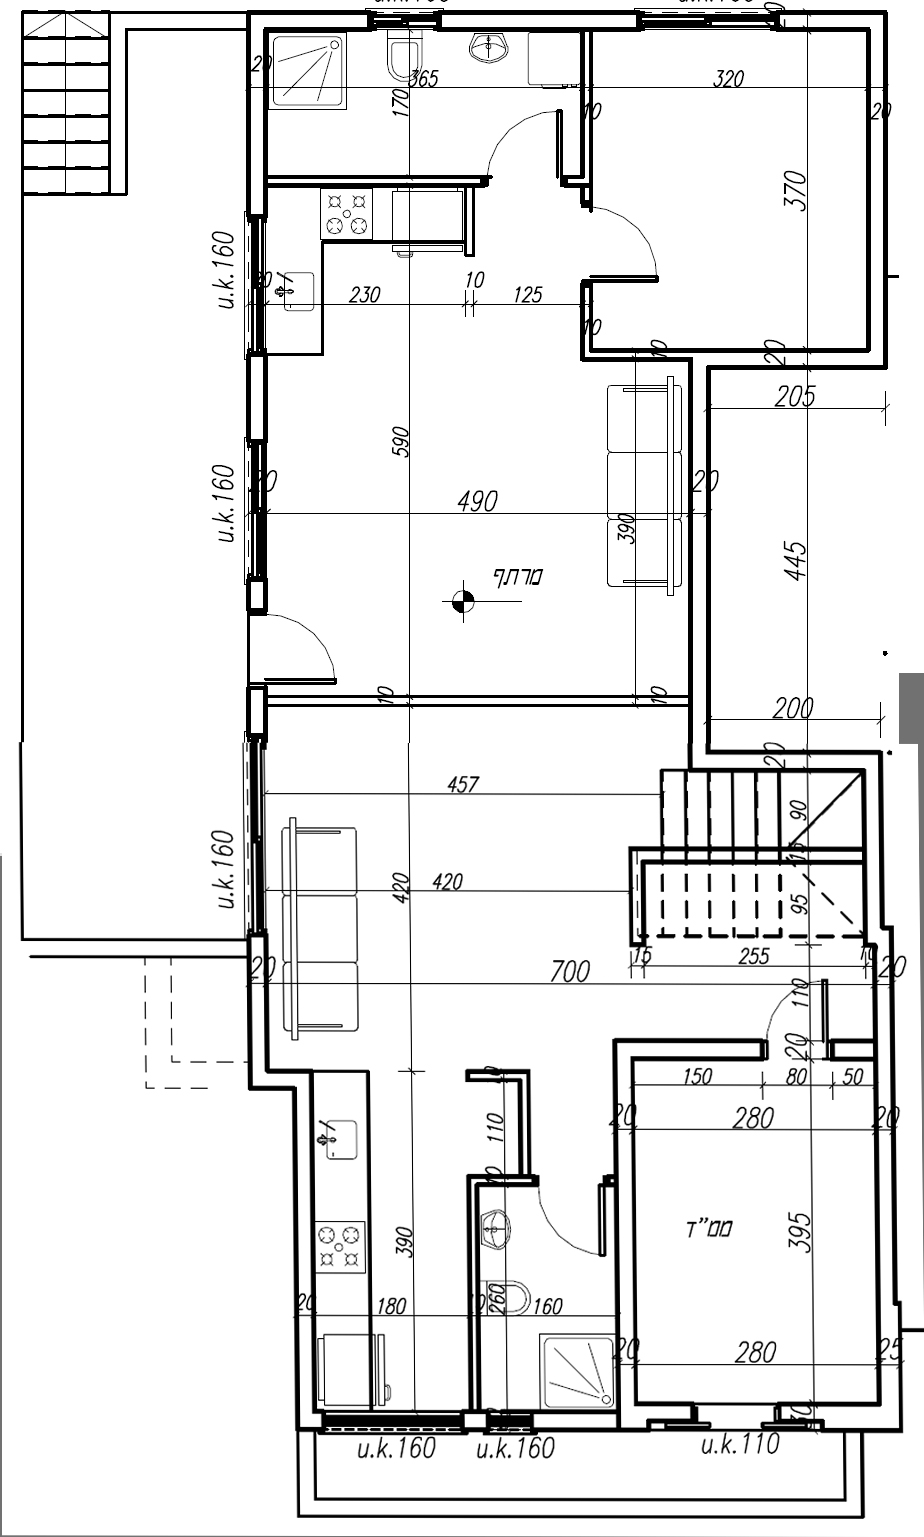door: (602, 200, 687, 296), (281, 601, 356, 689), (481, 106, 572, 170), (532, 1200, 610, 1268)
